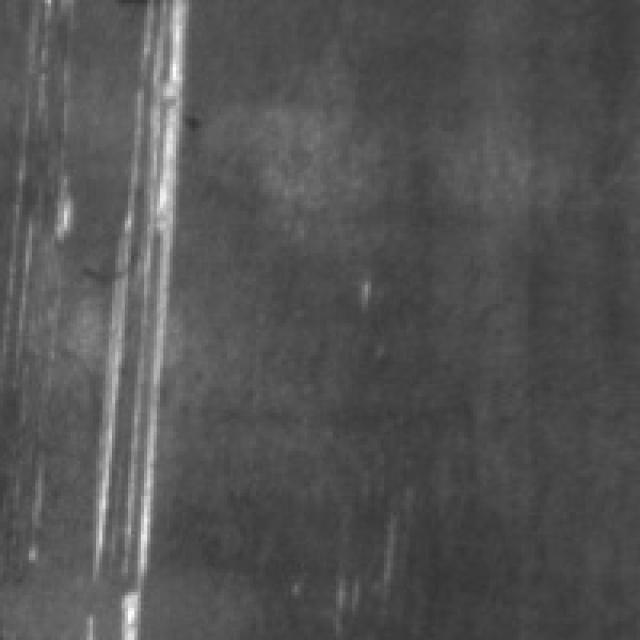scratches: (74, 0, 188, 634)
